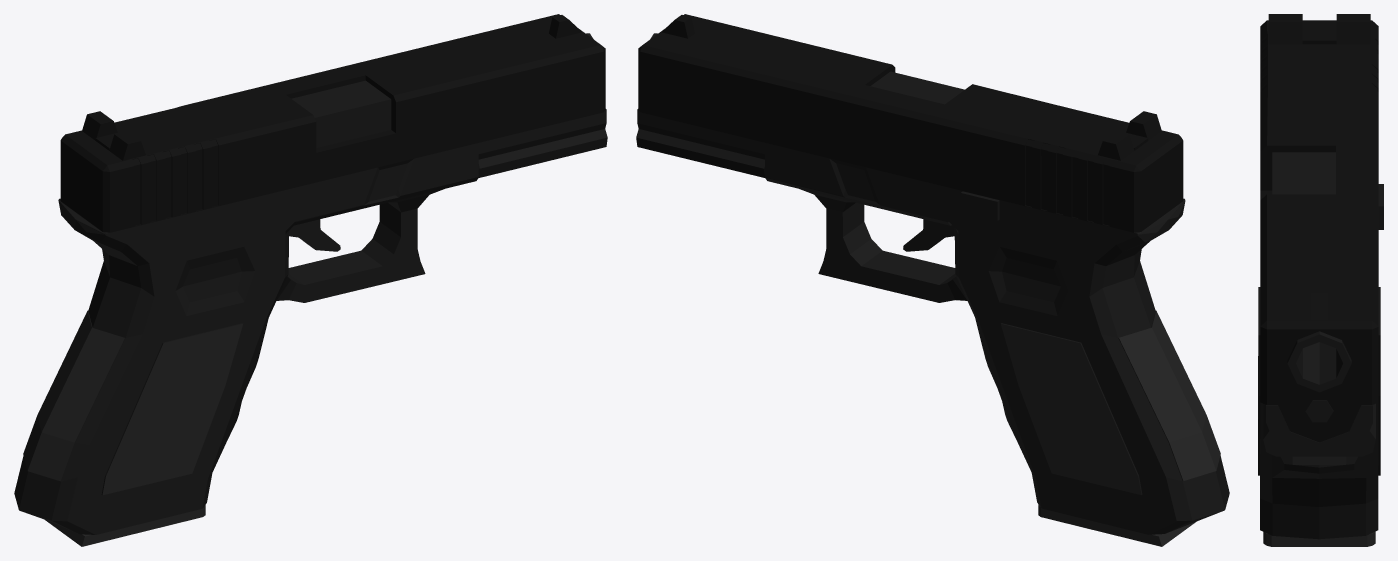
Rendered from Glock.fbx.
The picture shows the model from 3 angles, left to right: view 1: azimuth 30°, elevation 25°; view 2: azimuth 150°, elevation 25°; view 3: azimuth 270°, elevation 25°; orthographic projection. The views are drawn at different scales.
Visible parts, largest first — view 1: Base, Slide, Mag, Trigger; view 2: Base, Slide, Mag, Trigger; view 3: Slide, Base, Mag.
Boxes of the visible parts, left/top/right/bottom form: Base: left=14, top=33, right=607, bottom=534; Slide: left=60, top=14, right=605, bottom=232; Mag: left=45, top=505, right=205, bottom=546; Trigger: left=289, top=219, right=340, bottom=251; Base: left=636, top=33, right=1229, bottom=534; Slide: left=638, top=14, right=1183, bottom=232; Mag: left=1038, top=504, right=1196, bottom=546; Trigger: left=903, top=219, right=954, bottom=251; Slide: left=1260, top=14, right=1378, bottom=442; Base: left=1258, top=152, right=1383, bottom=539; Mag: left=1263, top=531, right=1375, bottom=546.
Size of the model in its own units: 72.68 by 47.4 by 11.13.
